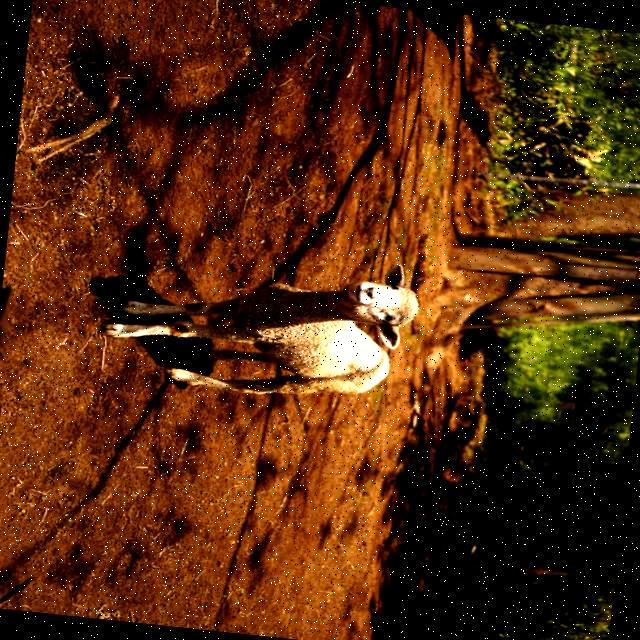sheep: (105, 270, 419, 392)
